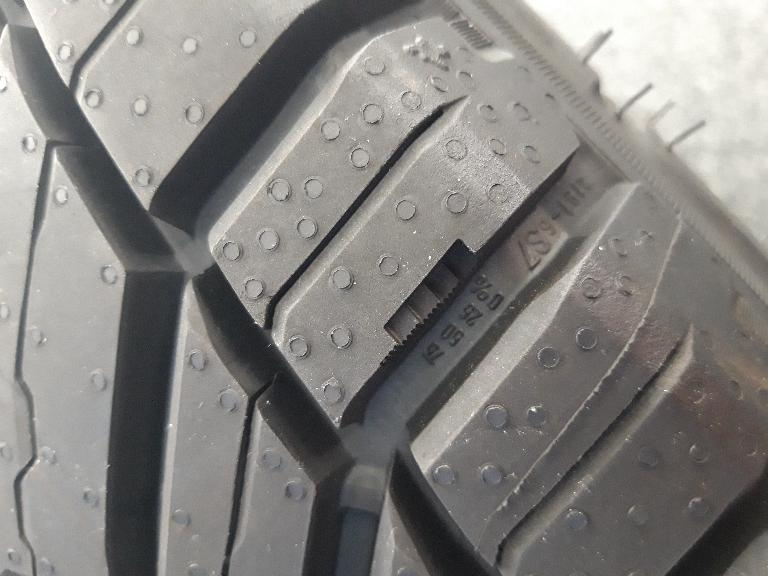temoin:100: (372, 230, 490, 375)
